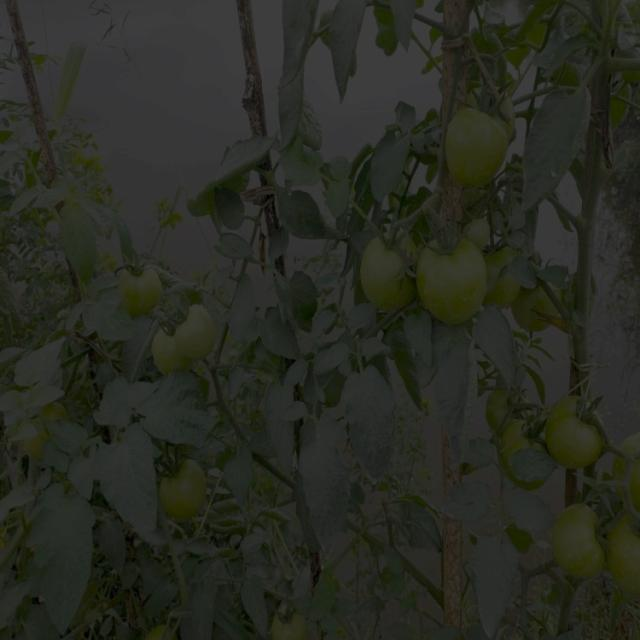tomato: (357, 221, 419, 312), (446, 108, 514, 187), (428, 231, 483, 328), (545, 390, 602, 476), (153, 306, 221, 377), (552, 500, 603, 582), (154, 461, 212, 525), (608, 512, 640, 600), (26, 405, 79, 449), (503, 429, 539, 486), (613, 439, 640, 507), (521, 283, 559, 329), (490, 241, 516, 305), (264, 609, 312, 640), (486, 388, 526, 425), (122, 263, 153, 305), (149, 623, 166, 640)
